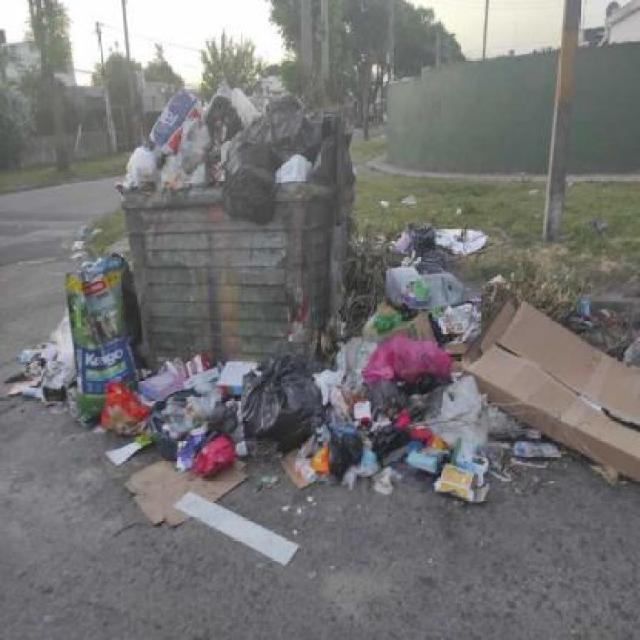garbage: (18, 254, 640, 573), (128, 91, 354, 225), (365, 218, 506, 260), (375, 191, 417, 207), (523, 182, 540, 193)
